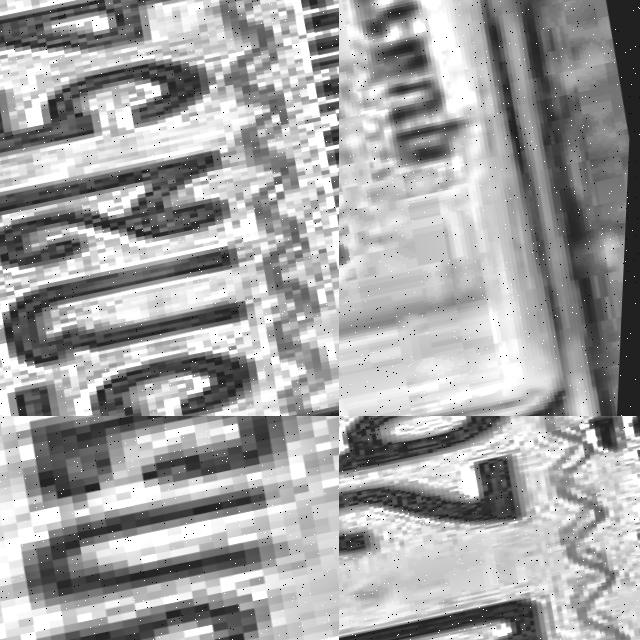license-plate: (0, 0, 339, 416), (339, 0, 594, 416), (0, 416, 339, 640), (339, 416, 640, 640)
